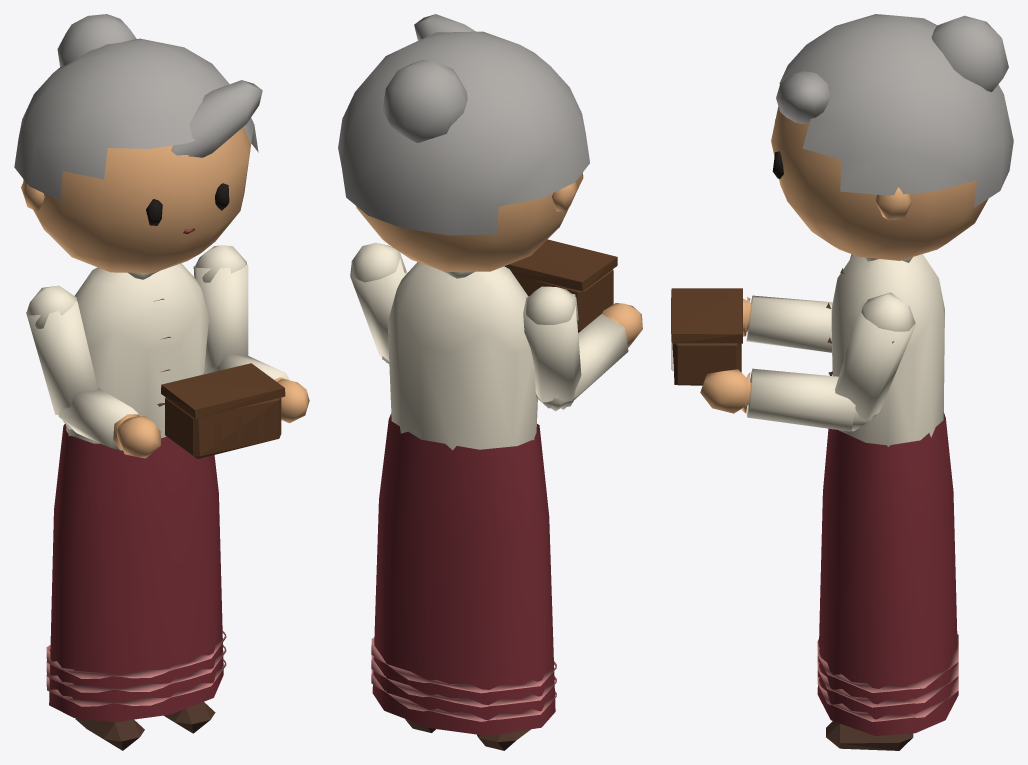
Rendered from isan_grandma_box.glb.
3 renders of one model, left to right at view 1: azimuth 30°, elevation 25°; view 2: azimuth 150°, elevation 25°; view 3: azimuth 270°, elevation 25°, orthographic. The views are drawn at different scales.
Parts seen in each view (by area): view 1: body, head, prop_wooden_box, arm_R, arm_L, forearm_R, forearm_L, shin_R, shin_L; view 2: body, head, arm_R, prop_wooden_box, arm_L, forearm_R, shin_R; view 3: body, head, forearm_L, prop_wooden_box, arm_L, forearm_R, shin_L.
Boxes of the visible parts, x1,y1,x2,y2 form: body: [46, 263, 226, 722]; head: [14, 14, 262, 272]; prop_wooden_box: [161, 363, 285, 458]; arm_R: [26, 285, 97, 414]; arm_L: [193, 245, 248, 371]; forearm_R: [58, 388, 160, 458]; forearm_L: [203, 353, 309, 423]; shin_R: [75, 718, 144, 750]; shin_L: [164, 702, 215, 733]; body: [371, 262, 556, 735]; head: [338, 14, 589, 272]; arm_R: [523, 286, 581, 411]; prop_wooden_box: [504, 239, 617, 332]; arm_L: [350, 242, 407, 362]; forearm_R: [536, 303, 642, 409]; shin_R: [477, 729, 530, 750]; body: [817, 254, 958, 735]; head: [771, 14, 1013, 260]; forearm_L: [700, 368, 875, 431]; prop_wooden_box: [671, 288, 742, 385]; arm_L: [835, 292, 915, 431]; forearm_R: [743, 295, 832, 352]; shin_L: [826, 721, 913, 750].
Bounding box in the file's own units: 0.4966 × 1.48 × 0.6447.
